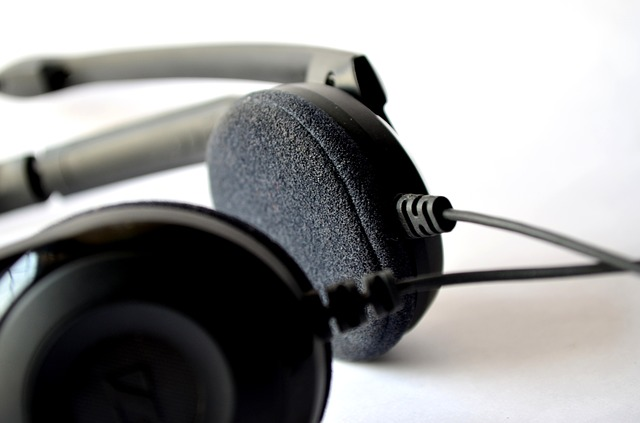headphones: (1, 43, 444, 423)
